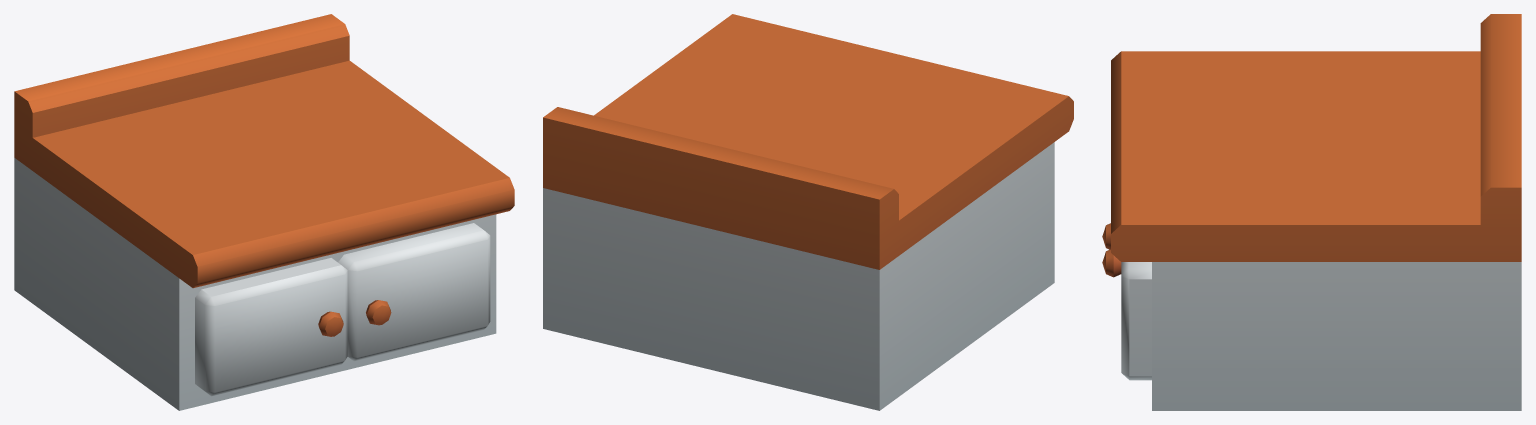
File: kitchencounter_straight_B_backsplash.obj
3 views of the same model, side by side, from view 1: azimuth 30°, elevation 25°; view 2: azimuth 150°, elevation 25°; view 3: azimuth 270°, elevation 25° (orthographic). The views are drawn at different scales.
Parts seen in each view (by area): view 1: kitchencounter_straight_B_backsplash_Cube.895; view 2: kitchencounter_straight_B_backsplash_Cube.895; view 3: kitchencounter_straight_B_backsplash_Cube.895.
Part boxes in pixels (left/top/right/bottom): kitchencounter_straight_B_backsplash_Cube.895: left=14, top=14, right=514, bottom=410; kitchencounter_straight_B_backsplash_Cube.895: left=543, top=14, right=1073, bottom=410; kitchencounter_straight_B_backsplash_Cube.895: left=1102, top=14, right=1521, bottom=410.
Bounding box in the file's own units: 2 × 1.2 × 2.04.
Materials: 1 (1 with a texture image).
